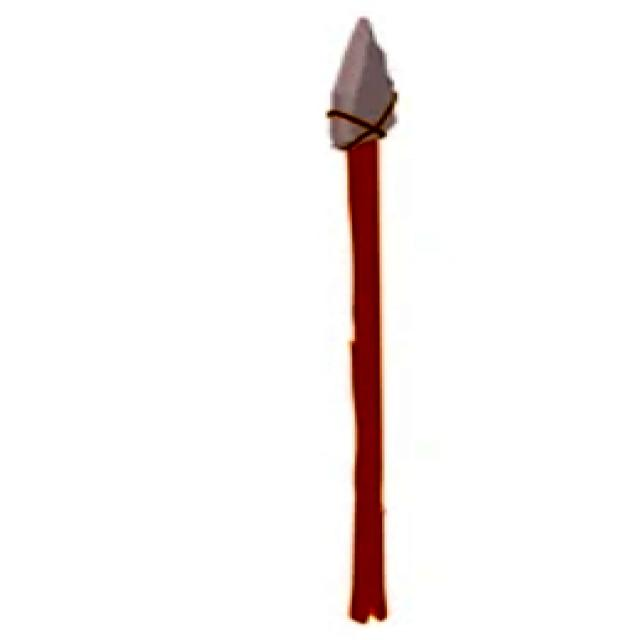spear: (301, 10, 410, 631)
